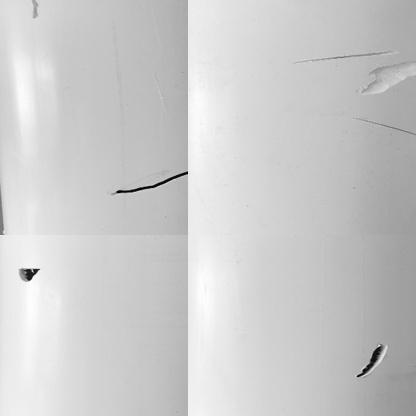fengxi: (113, 168, 189, 197)
kongdong: (348, 340, 392, 385), (16, 262, 46, 283)
sunshang: (354, 46, 416, 100)
